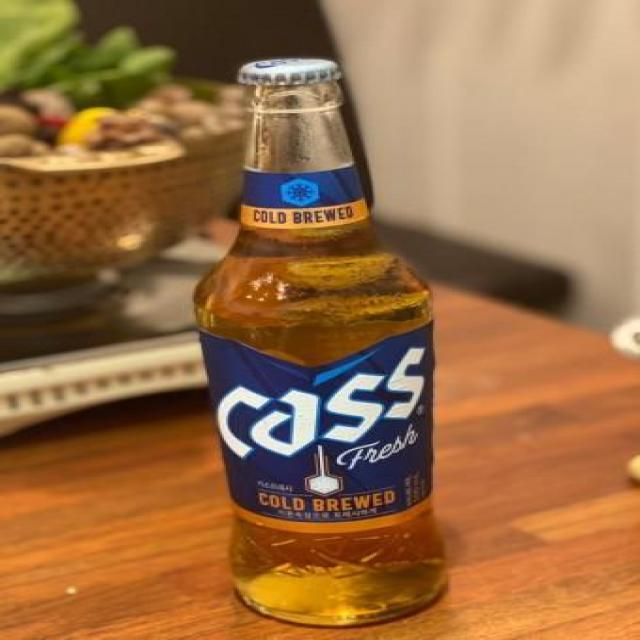beer-bottle: (158, 50, 480, 636)
